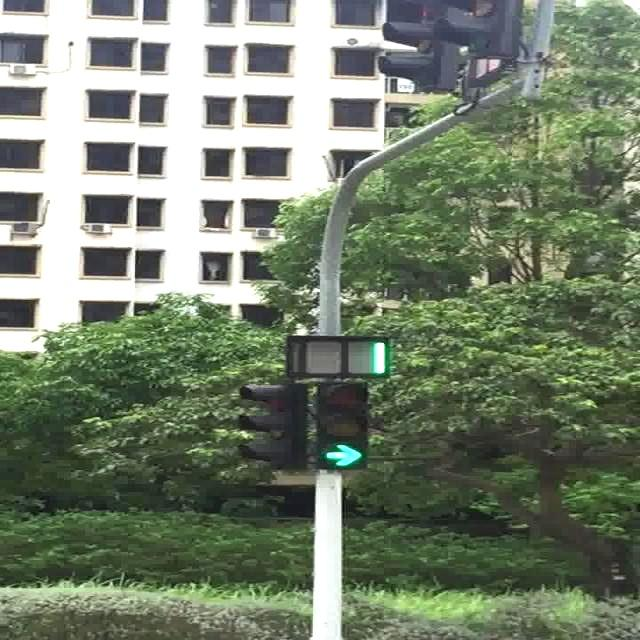Green: (314, 382, 366, 470)
